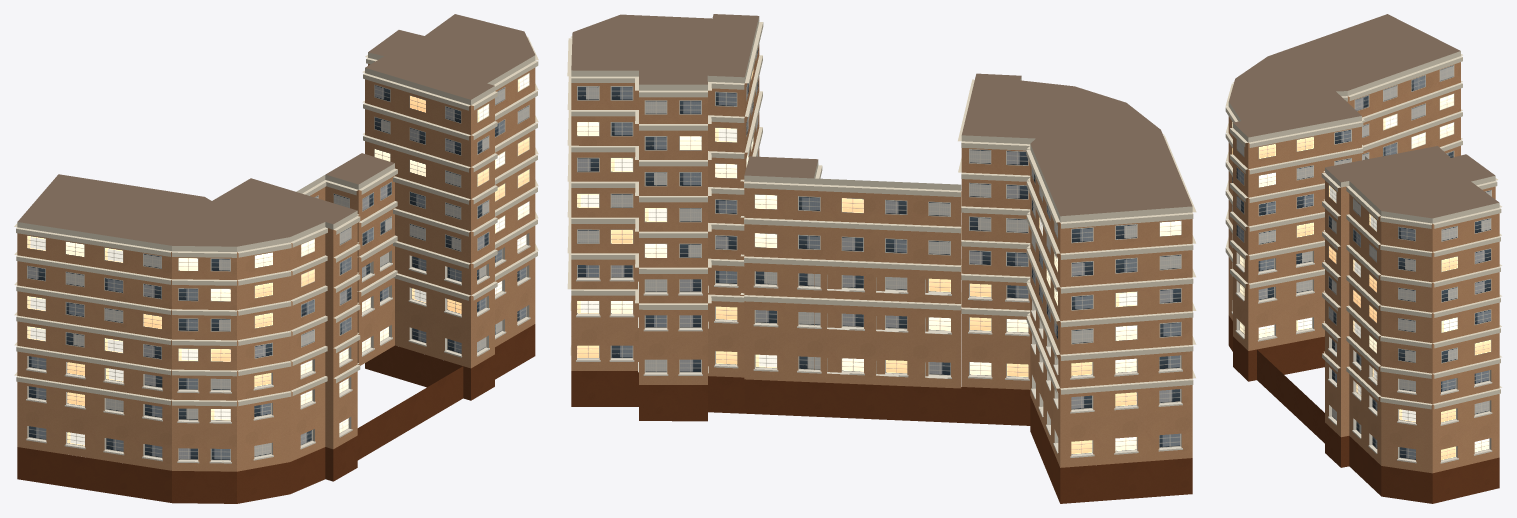
File: z4L_curved_stein_w.glb
3 views of the same model, side by side, from view 1: azimuth 30°, elevation 25°; view 2: azimuth 150°, elevation 25°; view 3: azimuth 270°, elevation 25° (orthographic). The views are drawn at different scales.
Visible parts, largest first — view 1: z4L_curved_stein_w; view 2: z4L_curved_stein_w; view 3: z4L_curved_stein_w.
Part boxes in pixels (x1,y1,x2,y2): z4L_curved_stein_w: [14, 14, 538, 503]; z4L_curved_stein_w: [567, 14, 1196, 503]; z4L_curved_stein_w: [1225, 14, 1501, 503].
Size of the model in its own units: 52.11 by 27.95 by 24.58.
3 materials, 3 textured.
